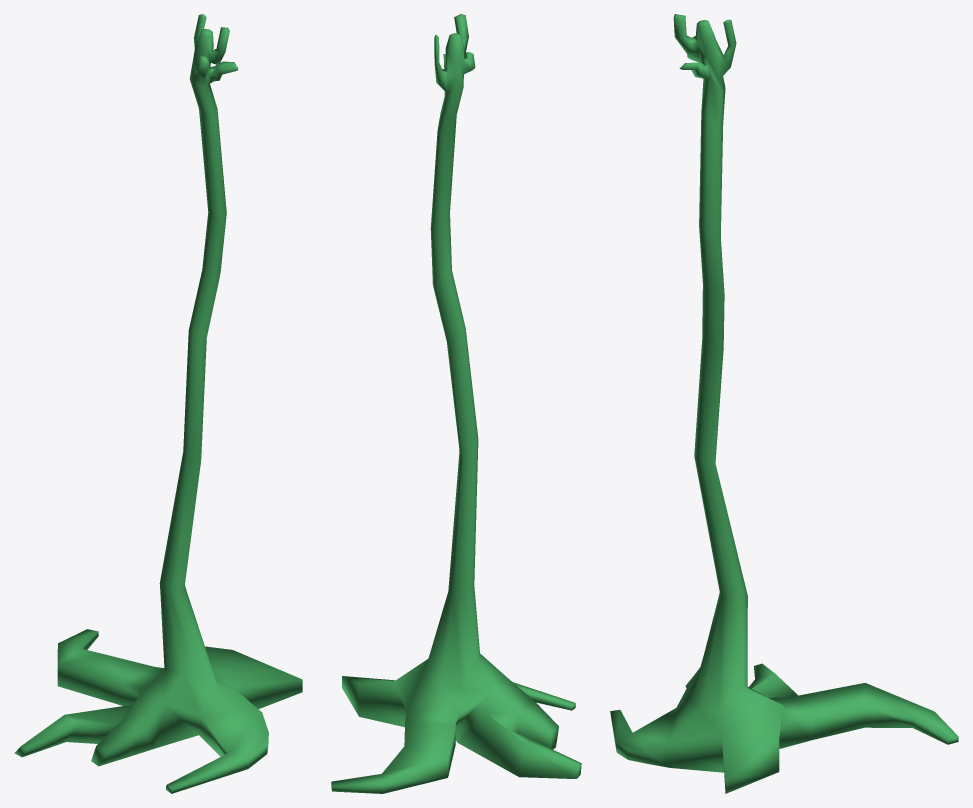
The model's file is lacune.fbx_TreeLampBig.fbx.
The picture shows the model from 3 angles, left to right: view 1: azimuth 30°, elevation 25°; view 2: azimuth 150°, elevation 25°; view 3: azimuth 270°, elevation 25°; orthographic projection. The views are drawn at different scales.
Visible parts, largest first — view 1: TreeLampBig; view 2: TreeLampBig; view 3: TreeLampBig.
Boxes of the visible parts, left/top/right/bottom form: TreeLampBig: left=14, top=14, right=302, bottom=793; TreeLampBig: left=331, top=14, right=581, bottom=793; TreeLampBig: left=610, top=14, right=958, bottom=793.
Size of what is drawn, in the model's own units: 229 by 594 by 252.
